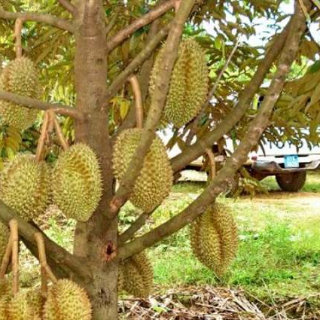sau_rieng: (52, 141, 106, 224)
